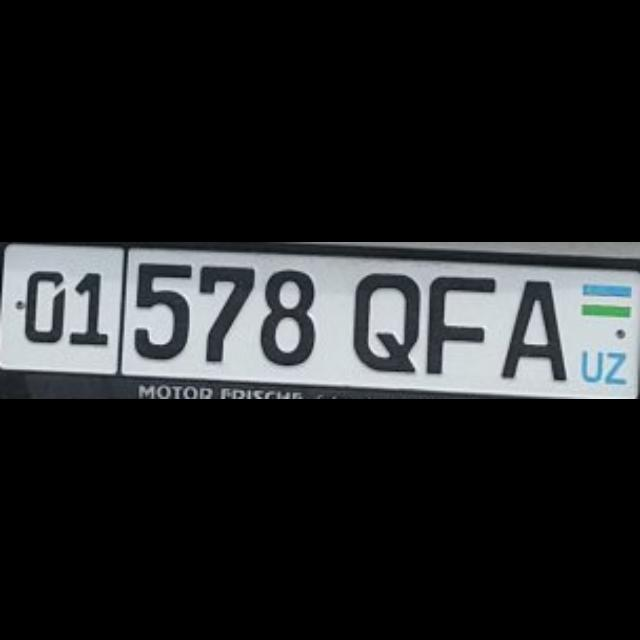0: (21, 266, 63, 340)
1: (65, 268, 105, 344)
5: (133, 258, 190, 358)
7: (195, 262, 252, 362)
8: (256, 264, 314, 364)
A: (502, 276, 566, 378)
F: (423, 272, 495, 370)
Q: (352, 268, 418, 369)
